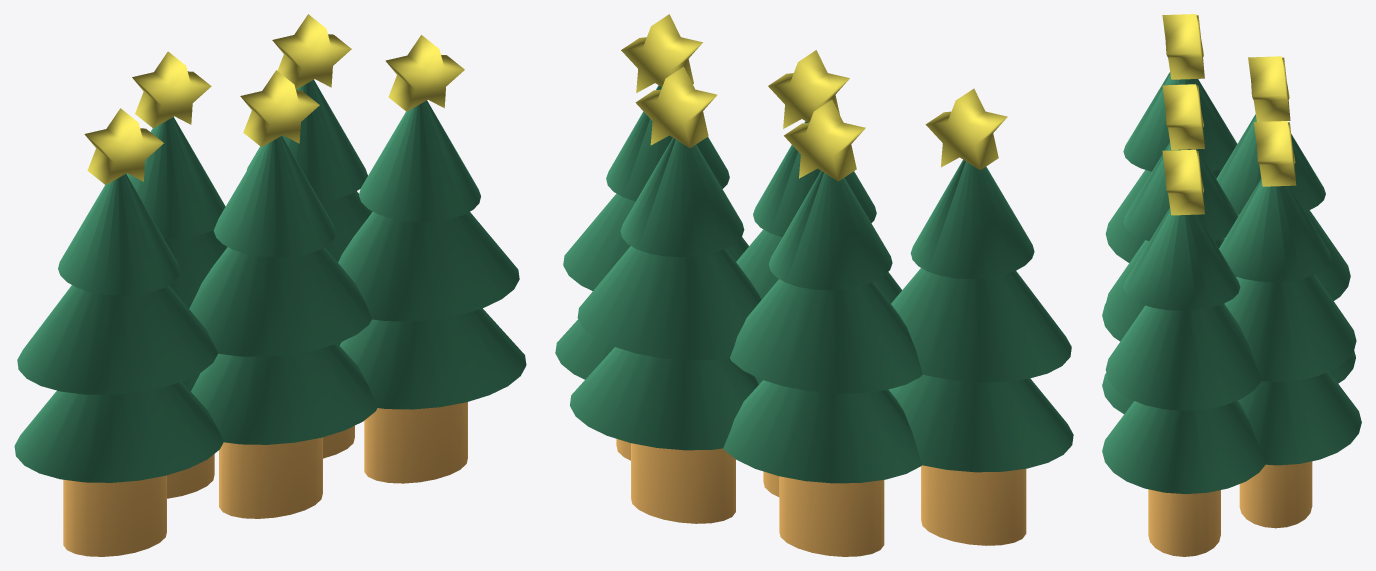
The model's file is Mori.glb.
The picture shows the model from 3 angles, left to right: view 1: azimuth 30°, elevation 25°; view 2: azimuth 150°, elevation 25°; view 3: azimuth 270°, elevation 25°; orthographic projection. The views are drawn at different scales.
Parts seen in each view (by area): view 1: obj_0.002, obj_0.003, obj_0.004, obj_0.005, obj_0.001; view 2: obj_0.005, obj_0.001, obj_0.002, obj_0.004, obj_0.003; view 3: obj_0.004, obj_0.001, obj_0.002, obj_0.003, obj_0.005.
Part boxes in pixels (x1=…): obj_0.002: x1=14, y1=108, x2=223, y2=556; obj_0.003: x1=189, y1=70, x2=377, y2=518; obj_0.004: x1=338, y1=35, x2=526, y2=483; obj_0.005: x1=126, y1=51, x2=227, y2=498; obj_0.001: x1=246, y1=14, x2=372, y2=458; obj_0.005: x1=723, y1=99, x2=922, y2=556; obj_0.001: x1=570, y1=66, x2=761, y2=523; obj_0.002: x1=888, y1=88, x2=1073, y2=545; obj_0.004: x1=555, y1=14, x2=748, y2=460; obj_0.003: x1=736, y1=50, x2=901, y2=496; obj_0.004: x1=1102, y1=149, x2=1265, y2=556; obj_0.001: x1=1219, y1=121, x2=1361, y2=528; obj_0.002: x1=1102, y1=14, x2=1237, y2=341; obj_0.003: x1=1102, y1=84, x2=1238, y2=413; obj_0.005: x1=1216, y1=56, x2=1355, y2=383.
Size of the model in its own units: 296 by 243 by 147.
